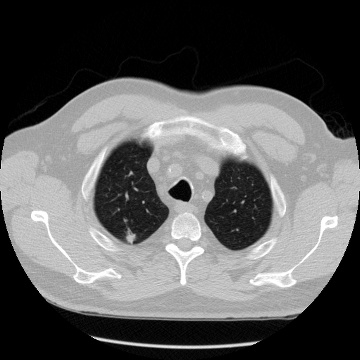PN: (126, 234, 134, 242)
